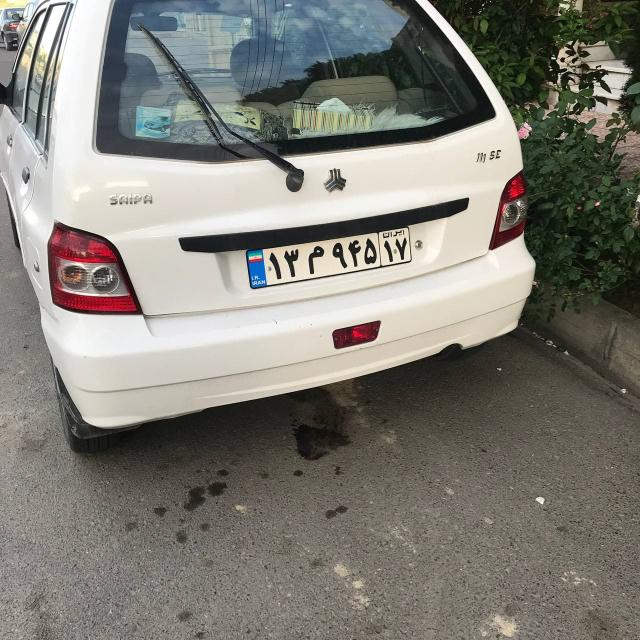Plates: (245, 222, 414, 289)
